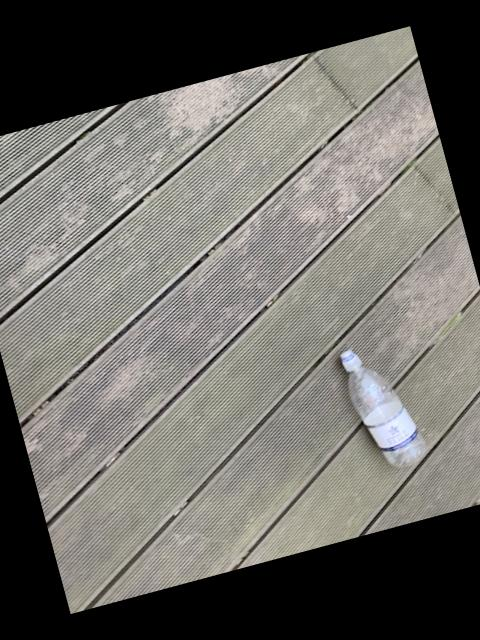plastic: (340, 348, 424, 465)
